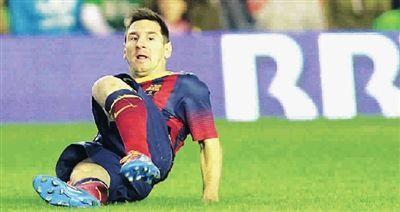Fall-Detected: (8, 4, 231, 207)
